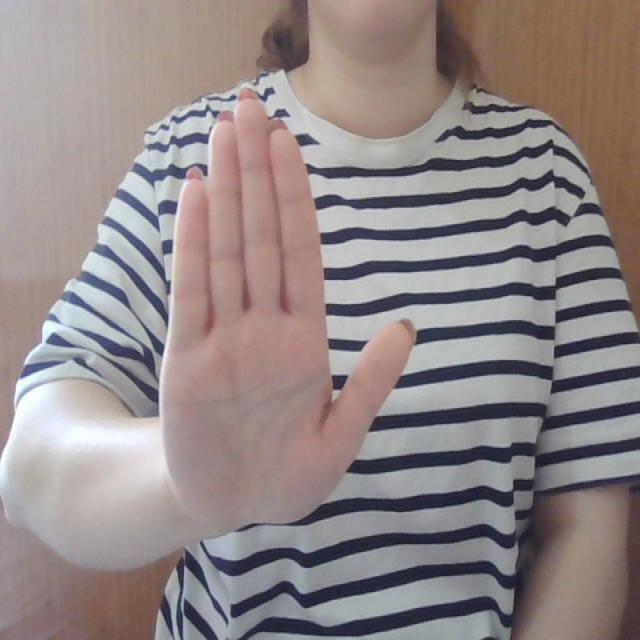Dur: (146, 90, 424, 532)
